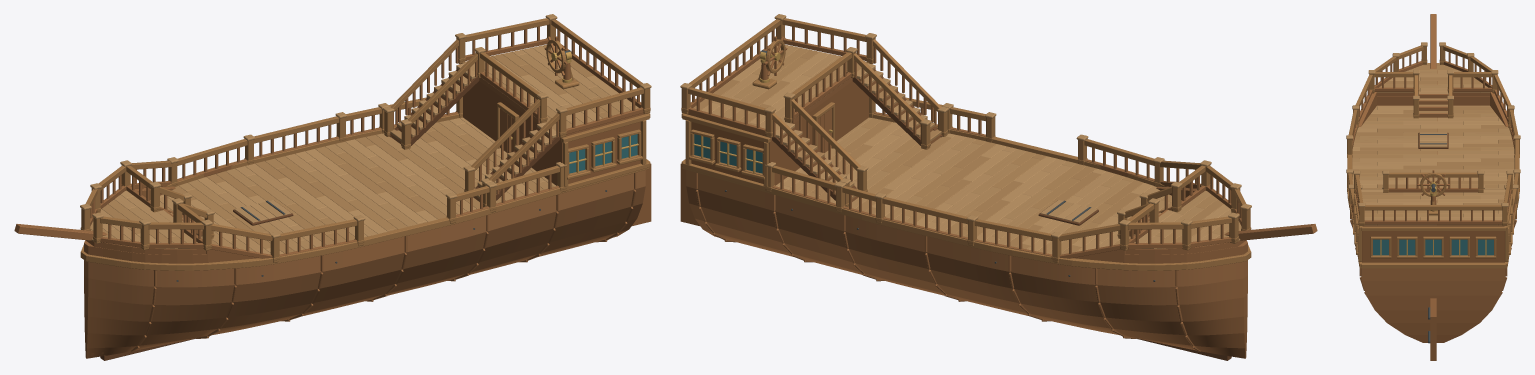
File: Stylized_Ship.glb
3 views of the same model, side by side, from view 1: azimuth 30°, elevation 25°; view 2: azimuth 150°, elevation 25°; view 3: azimuth 270°, elevation 25° (orthographic). The views are drawn at different scales.
Visible parts, largest first — view 1: Ship_LOD0, Steering_wheel, Rudder; view 2: Ship_LOD0, Steering_wheel, Rudder; view 3: Ship_LOD0, Rudder, Steering_wheel.
Boxes of the visible parts, box(x1,y1,x2,y2) form: Ship_LOD0: box(14, 14, 651, 360); Steering_wheel: box(544, 36, 567, 75); Rudder: box(632, 163, 651, 225); Ship_LOD0: box(680, 14, 1317, 360); Steering_wheel: box(764, 36, 787, 75); Rudder: box(680, 163, 699, 225); Ship_LOD0: box(1346, 14, 1520, 343); Rudder: box(1430, 298, 1436, 360); Steering_wheel: box(1417, 170, 1449, 196).
Size of the model in its own units: 27.54 by 8.82 by 8.64.
Materials: 1 (1 with a texture image).
